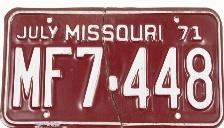4: (153, 45, 183, 111), (121, 45, 151, 111)
7: (74, 45, 104, 110)
8: (184, 45, 215, 111)
F: (43, 44, 73, 110)
M: (11, 43, 42, 110)
